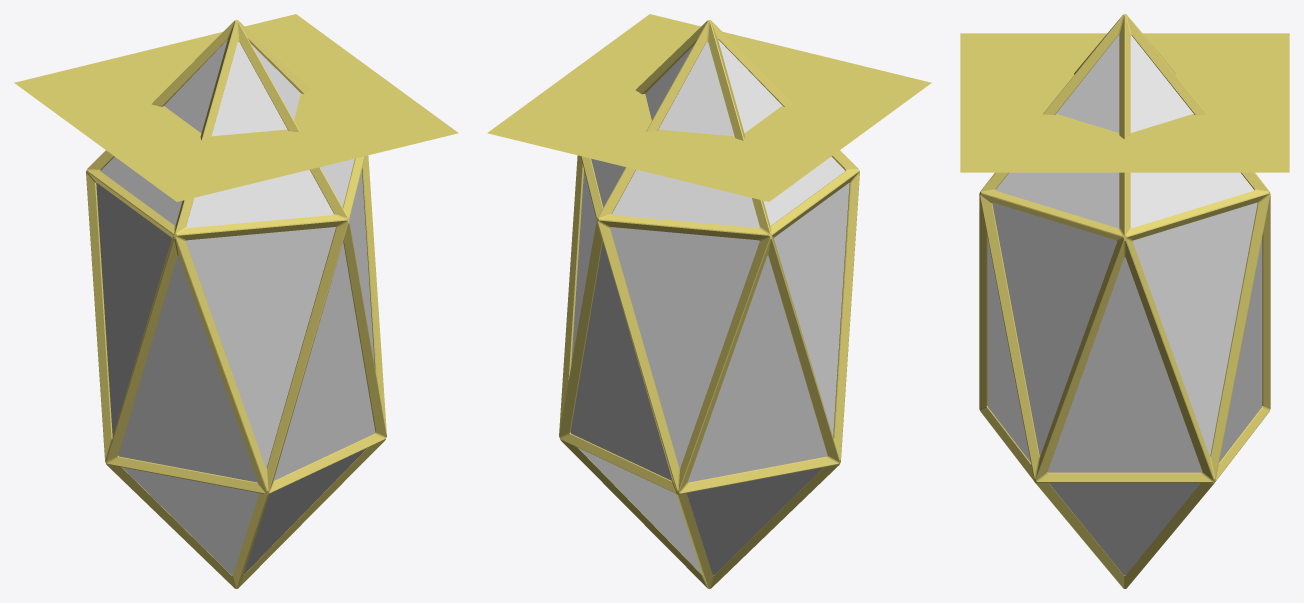
File: Lantern.fbx
3 renders of one model, left to right at view 1: azimuth 30°, elevation 25°; view 2: azimuth 150°, elevation 25°; view 3: azimuth 270°, elevation 25°, orthographic.
Visible parts, largest first — view 1: Icosphere, Plane, Icosphere.001; view 2: Icosphere, Plane, Icosphere.001; view 3: Icosphere, Plane, Icosphere.001.
Part boxes in pixels (x1,y1,x2,y2): Icosphere: [96, 40, 375, 575]; Plane: [14, 14, 458, 201]; Icosphere.001: [86, 20, 386, 588]; Icosphere: [570, 40, 849, 575]; Plane: [487, 14, 931, 201]; Icosphere.001: [559, 20, 859, 588]; Icosphere: [987, 35, 1262, 575]; Plane: [960, 33, 1289, 172]; Icosphere.001: [979, 14, 1270, 588].
Bounding box in the file's own units: 200 × 384 × 200.
